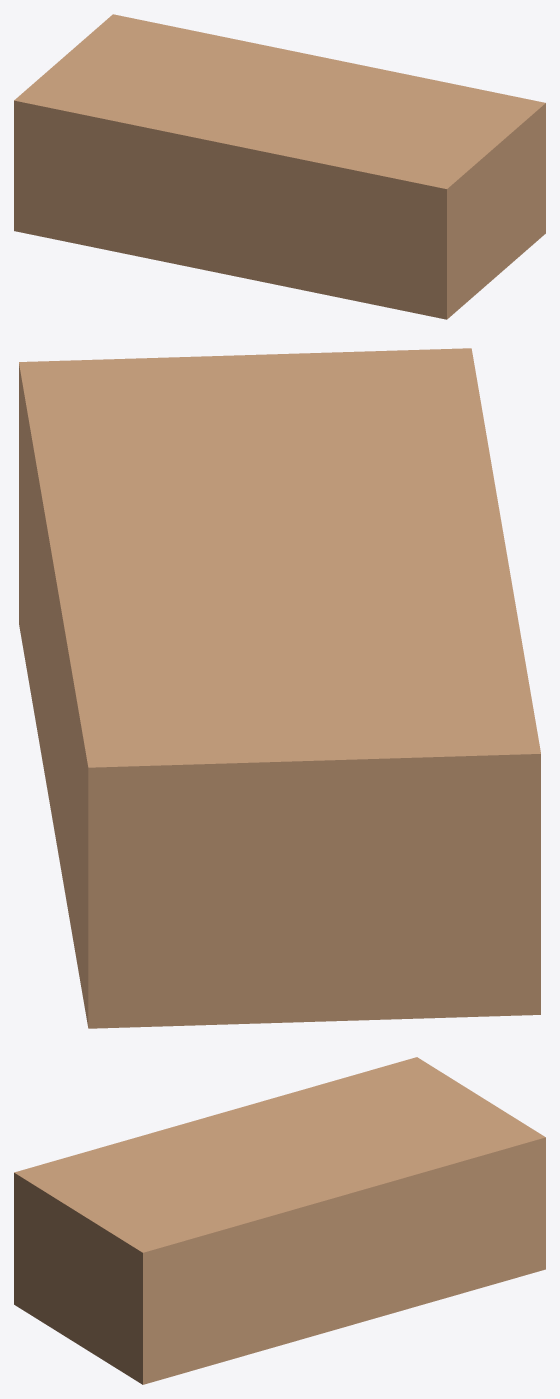
The model's file is Market_Stall.fbx.
3 renders of one model, top to bottom at view 1: azimuth 30°, elevation 25°; view 2: azimuth 150°, elevation 25°; view 3: azimuth 270°, elevation 25°, orthographic. The views are drawn at different scales.
Visible parts, largest first — view 1: pCube43; view 2: pCube43; view 3: pCube43.
Boxes of the visible parts, x1,y1,x2,y2 form: pCube43: [14, 14, 545, 319]; pCube43: [19, 348, 540, 1028]; pCube43: [14, 1057, 545, 1384].
Size of the model in its own units: 2.02 by 0.6344 by 2.32.
